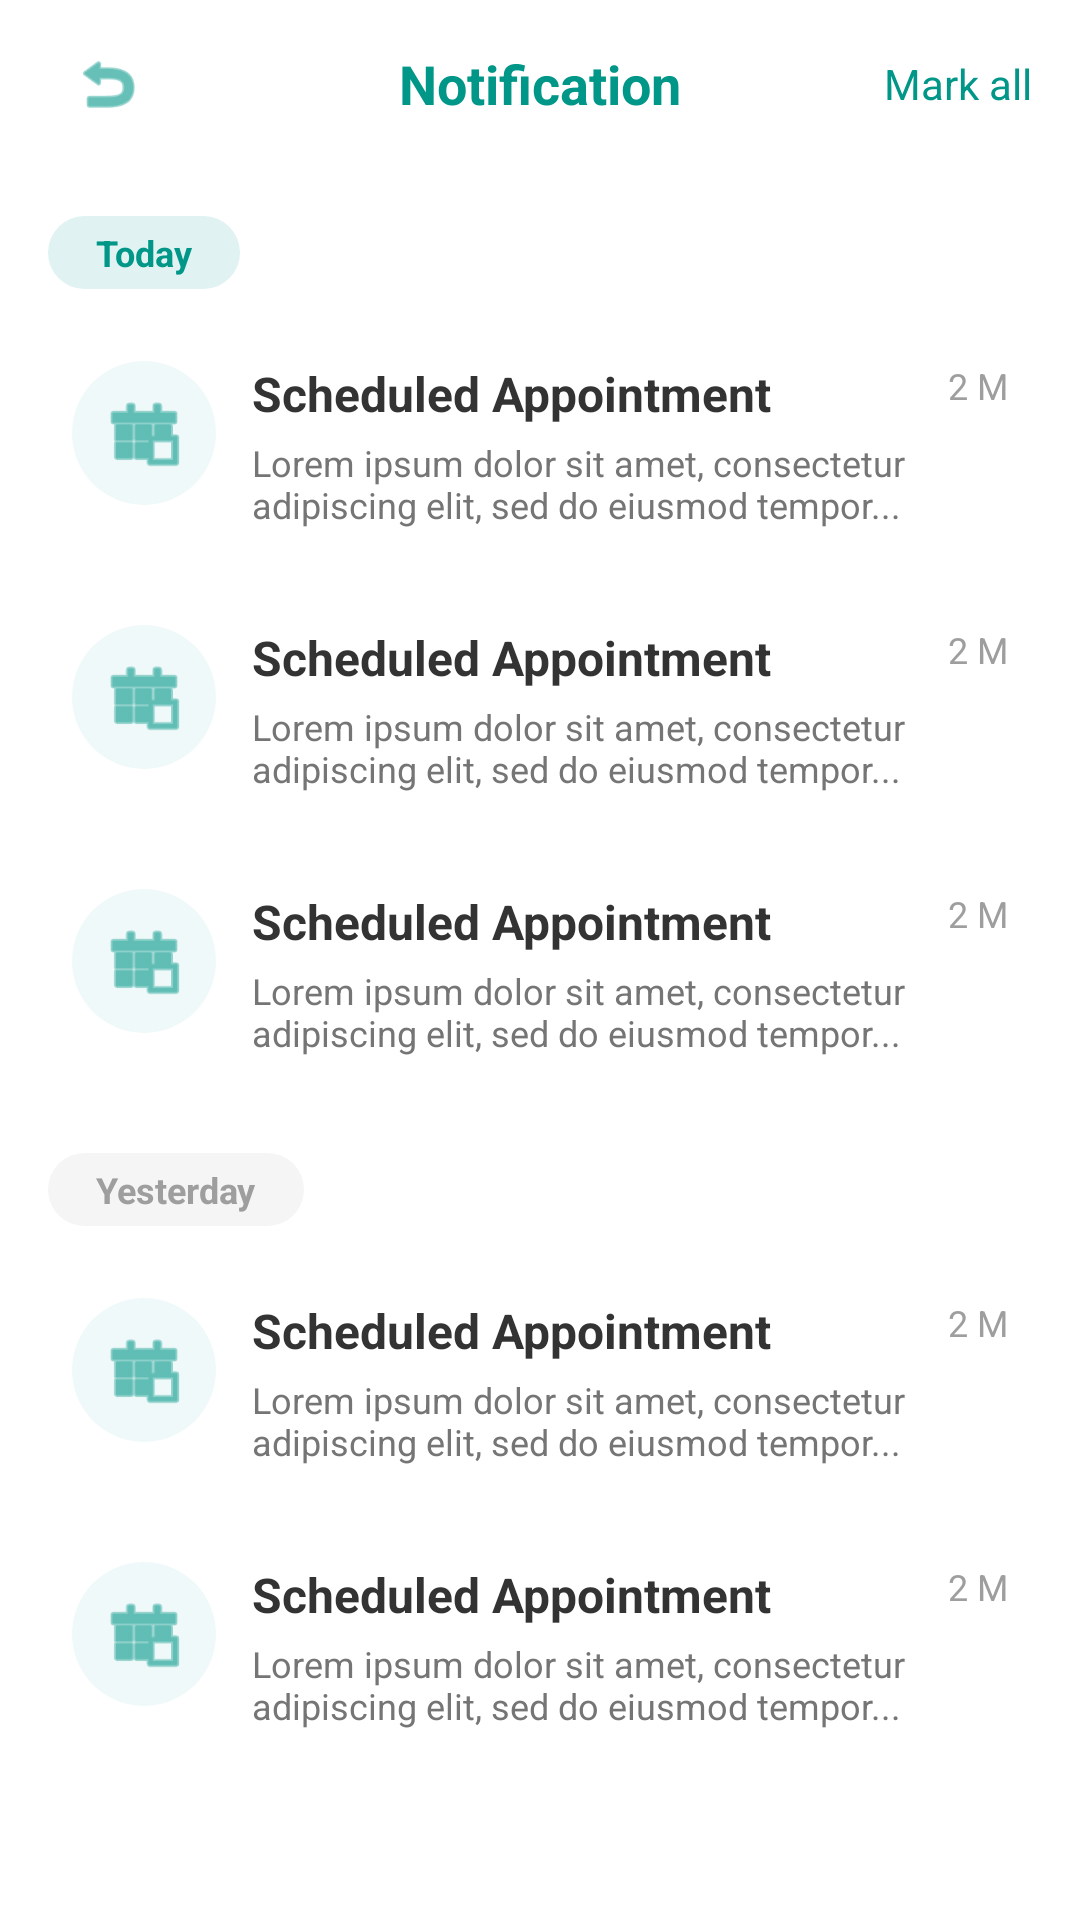

Named icons in this screenshot (1080 × 1920) and their centers, (x,y):
revert: (109,84)
